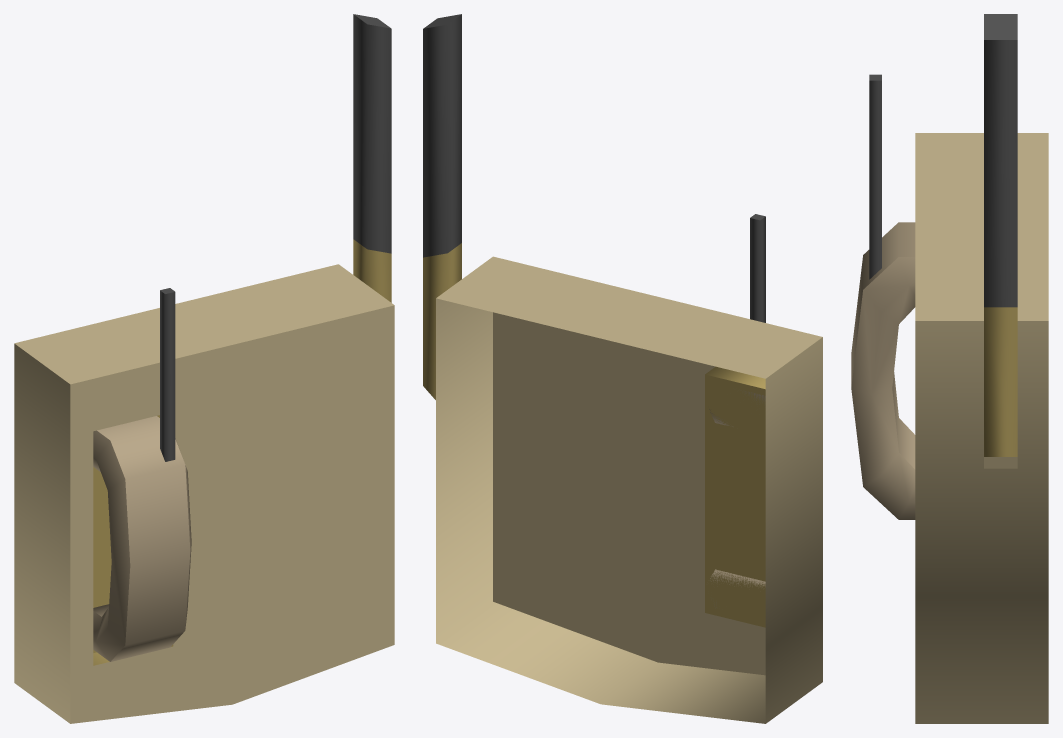
The model's file is telephone_01.fbx.
3 renders of one model, left to right at view 1: azimuth 30°, elevation 25°; view 2: azimuth 150°, elevation 25°; view 3: azimuth 270°, elevation 25°, orthographic. The views are drawn at different scales.
Parts seen in each view (by area): view 1: Telephone, Telephone_Child; view 2: Telephone, Telephone_Child; view 3: Telephone, Telephone_Child.
Part boxes in pixels (x1,y1,x2,y2): Telephone: (14,14,394,723); Telephone_Child: (93,288,191,661); Telephone: (423,14,822,723); Telephone_Child: (709,214,765,608); Telephone: (915,14,1048,723); Telephone_Child: (851,74,915,519).
Size of the model in its own units: 44.53 by 75.24 by 18.32.
